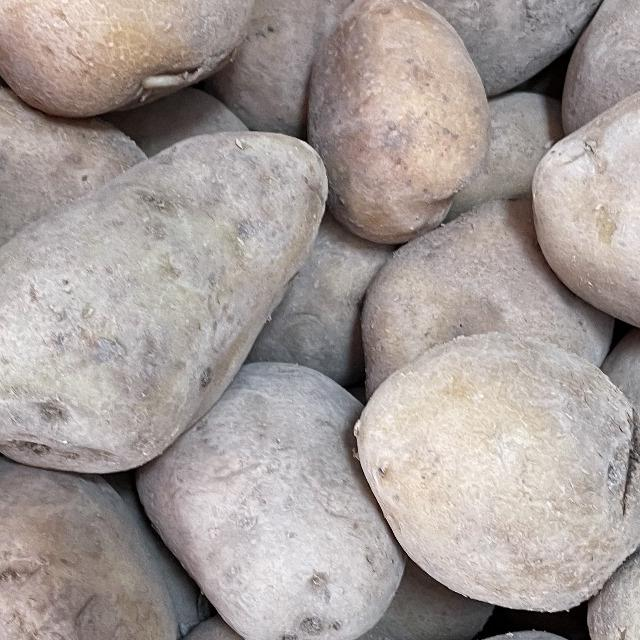potato: (0, 105, 370, 477), (340, 292, 640, 635), (302, 0, 487, 252), (510, 32, 640, 350), (0, 440, 170, 640), (0, 0, 270, 122)
